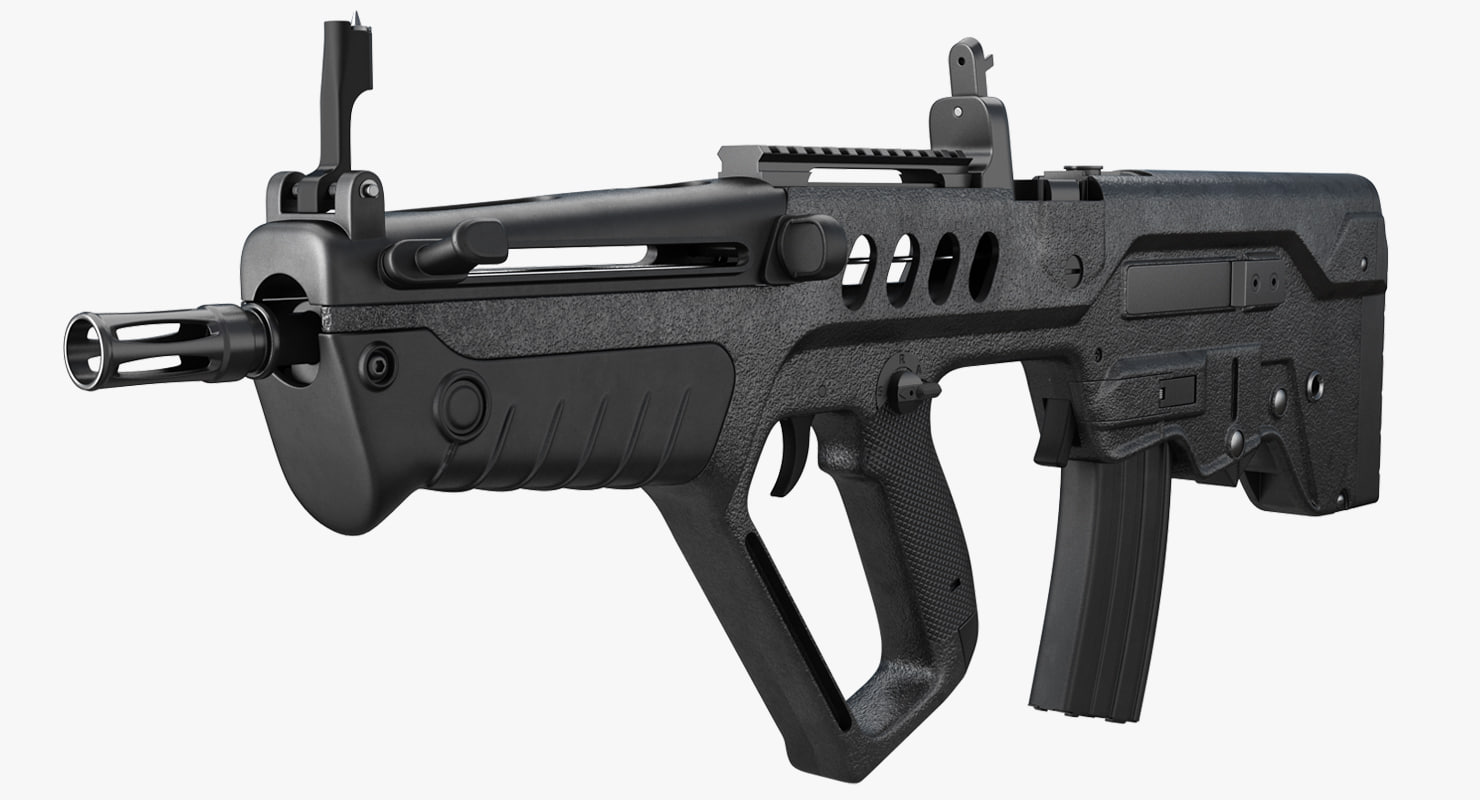Arma Real: (61, 12, 1416, 777)
